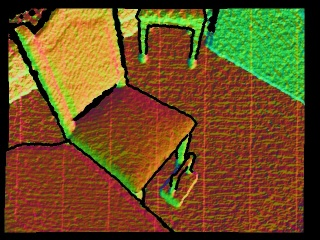station: (160, 153, 199, 210)
